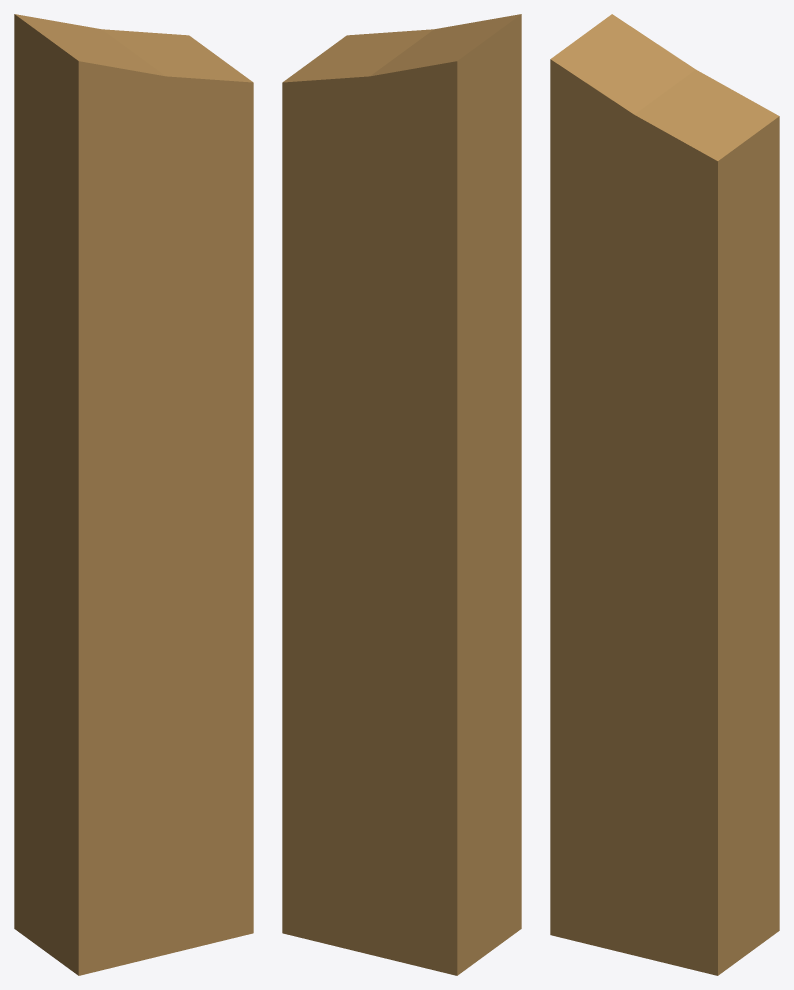
3 views of the same model, side by side, from view 1: azimuth 30°, elevation 25°; view 2: azimuth 150°, elevation 25°; view 3: azimuth 330°, elevation 25° (orthographic). The views are drawn at different scales.
Parts seen in each view (by area): view 1: L4-6-S5-3ED-M08; view 2: L4-6-S5-3ED-M08; view 3: L4-6-S5-3ED-M08.
Boxes of the visible parts, left/top/right/bottom form: L4-6-S5-3ED-M08: left=14, top=14, right=253, bottom=975; L4-6-S5-3ED-M08: left=282, top=14, right=521, bottom=975; L4-6-S5-3ED-M08: left=550, top=14, right=779, bottom=975.
Size of the model in its own units: 0.0705 by 0.3525 by 0.045.
